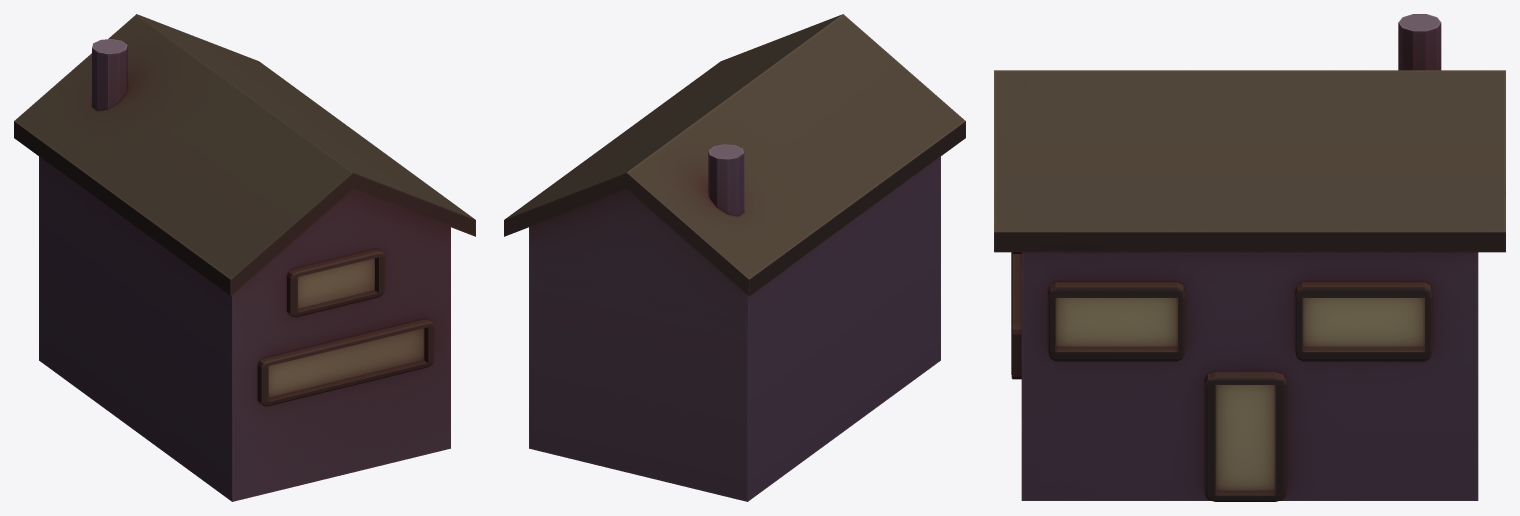
File: SmallHouse.fbx
3 views of the same model, side by side, from view 1: azimuth 30°, elevation 25°; view 2: azimuth 150°, elevation 25°; view 3: azimuth 270°, elevation 25° (orthographic). The views are drawn at different scales.
Visible parts, largest first — view 1: SmallHouse; view 2: SmallHouse; view 3: SmallHouse.
Boxes of the visible parts, x1,y1,x2,y2 form: SmallHouse: (14,14,475,501); SmallHouse: (504,14,965,501); SmallHouse: (994,14,1505,501).
Bounding box in the file's own units: 112 × 139 × 171.
